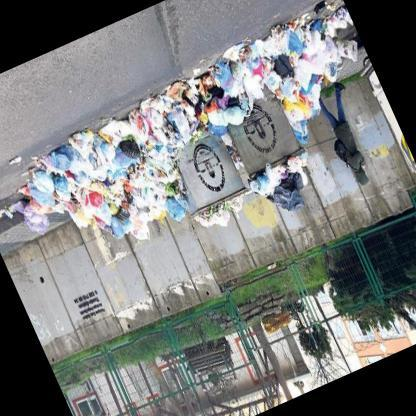Garbage: (124, 0, 370, 157), (0, 102, 193, 299), (246, 10, 338, 154), (247, 150, 323, 218), (132, 154, 184, 226), (285, 0, 347, 56), (192, 191, 252, 235), (169, 50, 221, 100), (13, 194, 56, 244), (254, 5, 298, 53), (22, 152, 60, 202), (108, 174, 148, 221), (228, 48, 263, 88), (298, 47, 330, 80), (289, 93, 314, 120), (264, 163, 286, 188), (288, 154, 308, 180), (226, 194, 248, 217), (0, 200, 7, 229)
